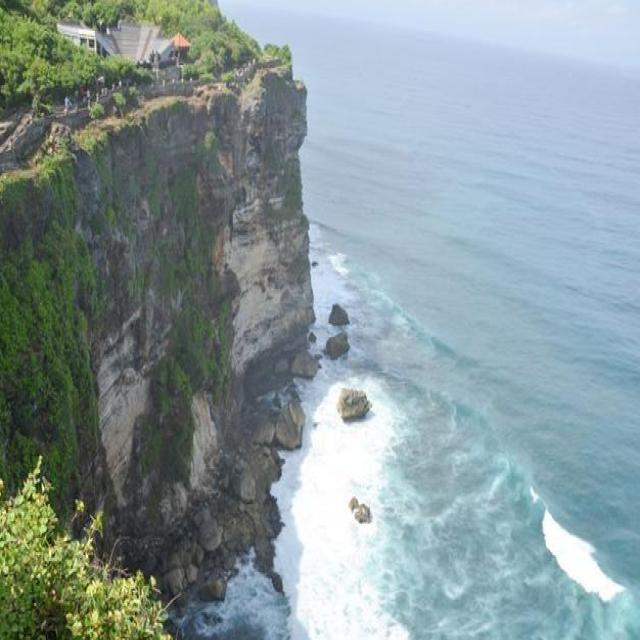reef: (312, 288, 377, 431)
